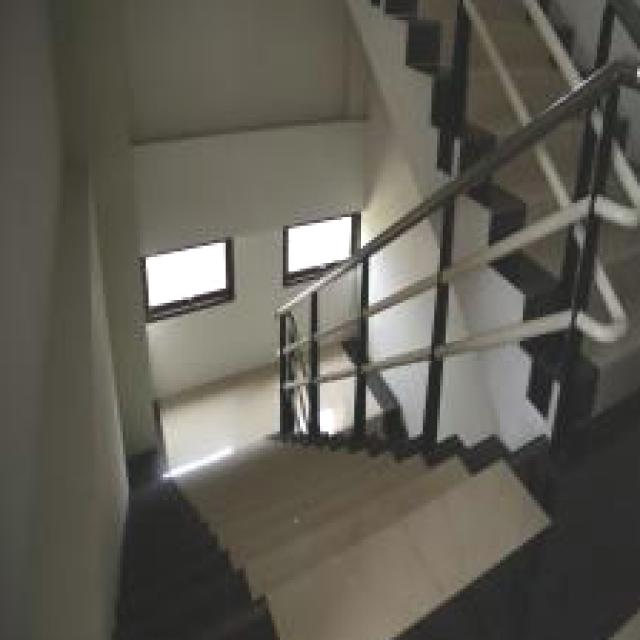downstair: (153, 455, 496, 640)
